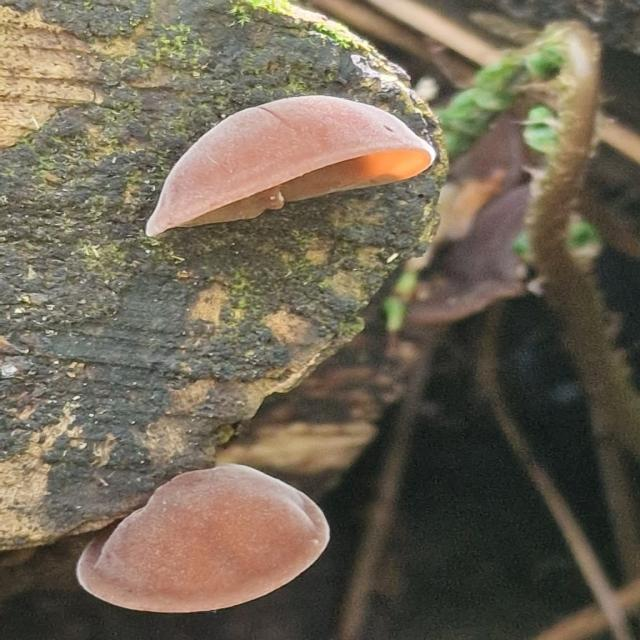Fase Muda: (143, 92, 439, 244), (68, 469, 333, 617)
